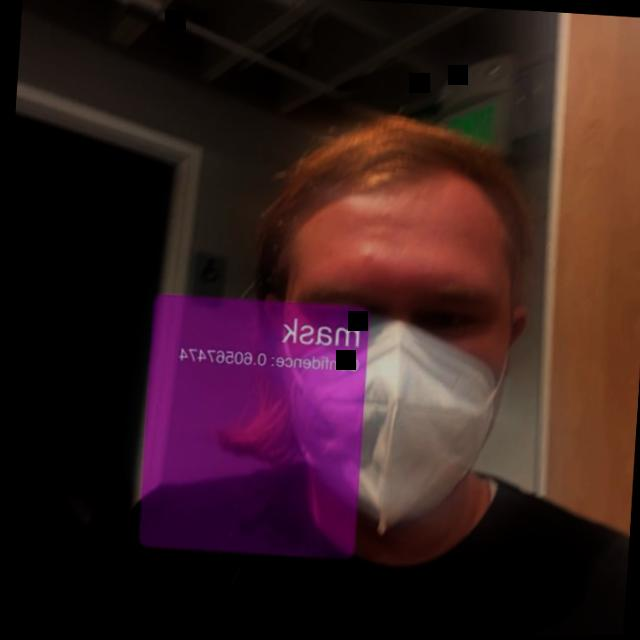Mask: (184, 126, 552, 612)
